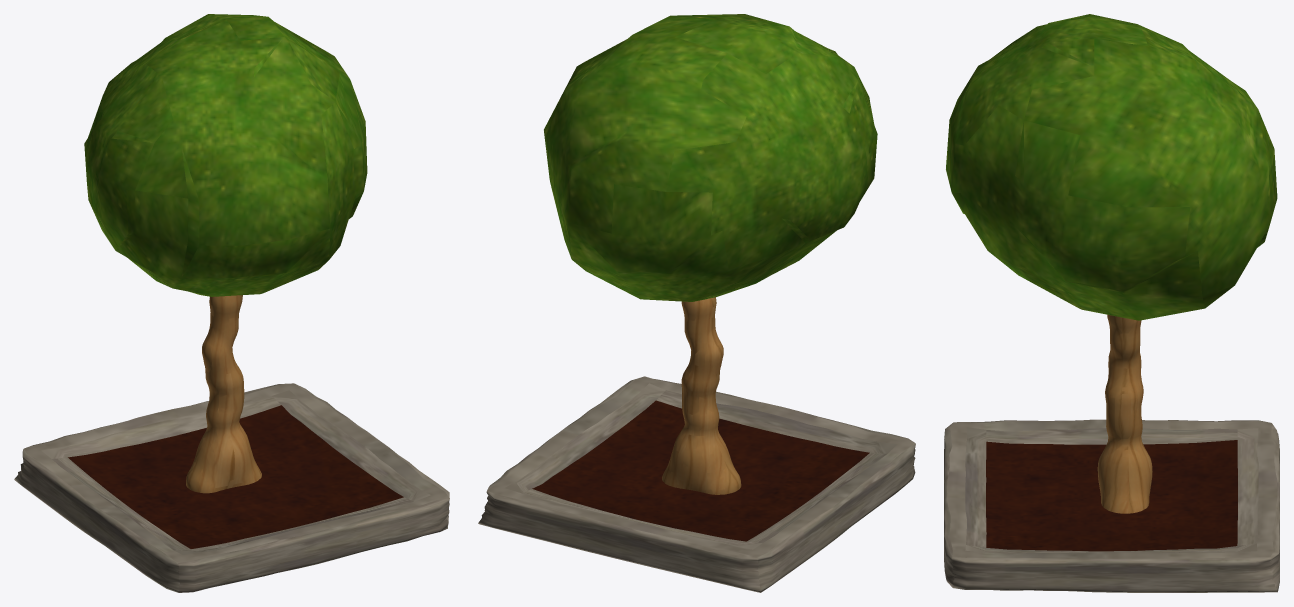
The picture shows the model from 3 angles, left to right: view 1: azimuth 30°, elevation 25°; view 2: azimuth 150°, elevation 25°; view 3: azimuth 270°, elevation 25°; orthographic projection. The views are drawn at different scales.
Parts seen in each view (by area): view 1: Mball.025, Cube.046, Mball.032; view 2: Mball.025, Cube.046, Mball.032; view 3: Mball.025, Cube.046, Mball.032.
Boxes of the visible parts, x1,y1,x2,y2 form: Mball.025: (84,14,367,296); Cube.046: (14,383,449,592); Mball.032: (186,295,261,493); Mball.025: (544,14,877,301); Cube.046: (478,376,915,592); Mball.032: (662,297,741,494); Mball.025: (946,14,1277,320); Cube.046: (944,419,1279,592); Mball.032: (1097,314,1152,513).
Size of the model in its own units: 2.57 by 4.01 by 2.52.
Materials: 4 (4 with a texture image).
